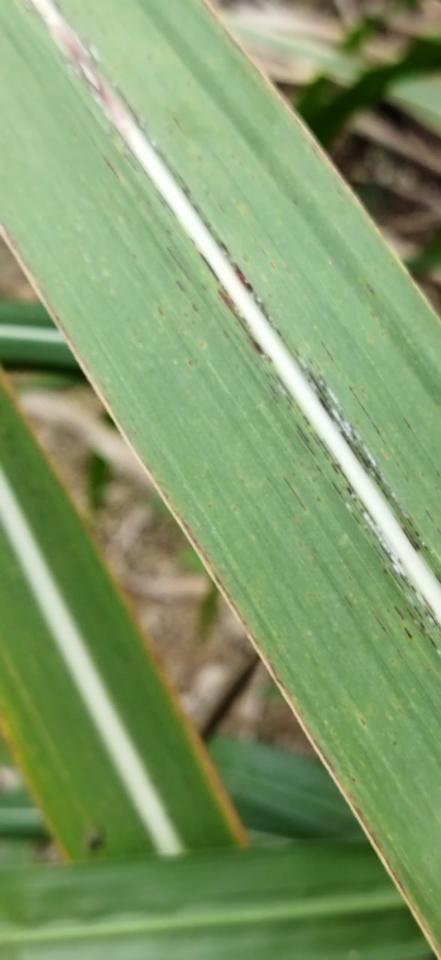RedRot: (57, 33, 111, 114)
Rust: (292, 347, 389, 500), (329, 462, 418, 595), (216, 241, 284, 339), (217, 284, 275, 364), (346, 383, 388, 446), (331, 480, 361, 525), (281, 474, 309, 515), (303, 423, 330, 461), (197, 250, 222, 284), (406, 518, 430, 552), (419, 621, 440, 656), (295, 423, 316, 457), (400, 525, 421, 553), (274, 374, 295, 402), (387, 566, 407, 595), (419, 592, 436, 616), (313, 431, 330, 454), (424, 605, 439, 627), (174, 277, 188, 294), (401, 625, 414, 642), (393, 605, 405, 621), (413, 605, 424, 620), (268, 372, 279, 386), (424, 508, 434, 523), (284, 396, 295, 408), (406, 607, 416, 620), (302, 414, 311, 427), (268, 384, 277, 395), (190, 304, 200, 313), (419, 628, 426, 637), (435, 527, 440, 536), (264, 372, 270, 379), (423, 611, 428, 616)
